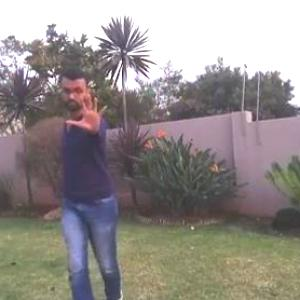follow_hand: (65, 89, 112, 132)
